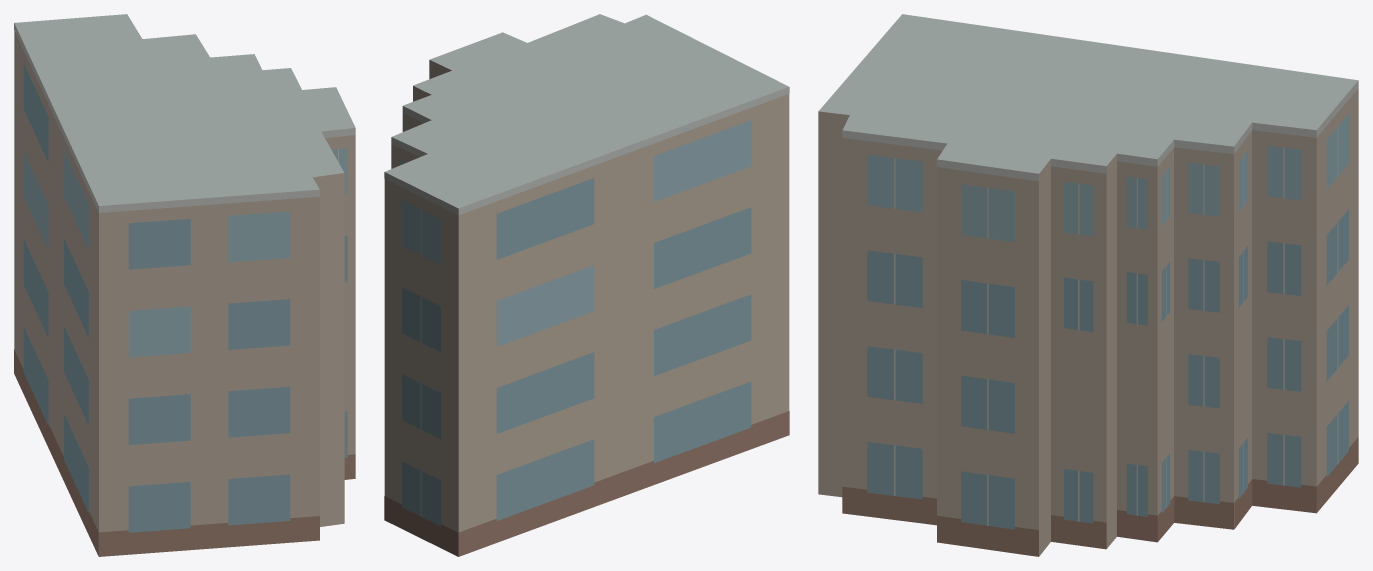
The model's file is survey-upis-32923734.glb.
3 views of the same model, side by side, from view 1: azimuth 30°, elevation 25°; view 2: azimuth 150°, elevation 25°; view 3: azimuth 270°, elevation 25° (orthographic). The views are drawn at different scales.
Parts seen in each view (by area): view 1: survey-upis-32923734.tmp; view 2: survey-upis-32923734.tmp; view 3: survey-upis-32923734.tmp.
Part boxes in pixels (left/top/right/bottom): survey-upis-32923734.tmp: left=14, top=14, right=355, bottom=556; survey-upis-32923734.tmp: left=384, top=14, right=789, bottom=556; survey-upis-32923734.tmp: left=818, top=14, right=1358, bottom=556.
Bounding box in the file's own units: 11.02 × 12.3 × 15.73.
